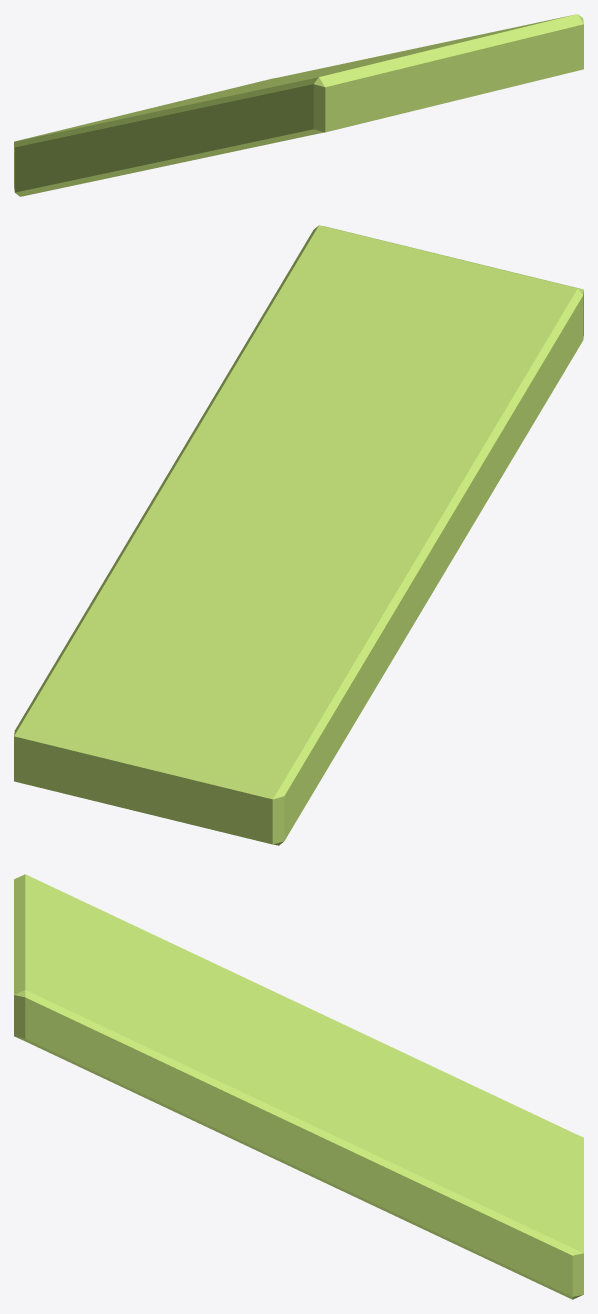
The model's file is Slope.fbx.
3 renders of one model, top to bottom at view 1: azimuth 30°, elevation 25°; view 2: azimuth 150°, elevation 25°; view 3: azimuth 270°, elevation 25°, orthographic. The views are drawn at different scales.
Visible parts, largest first — view 1: pCube1; view 2: pCube1; view 3: pCube1.
Part boxes in pixels (x1,y1,x2,y2): pCube1: (14, 14, 583, 196); pCube1: (14, 225, 583, 845); pCube1: (14, 874, 583, 1299).
Bounding box in the file's own units: 1 × 1.2 × 2.
